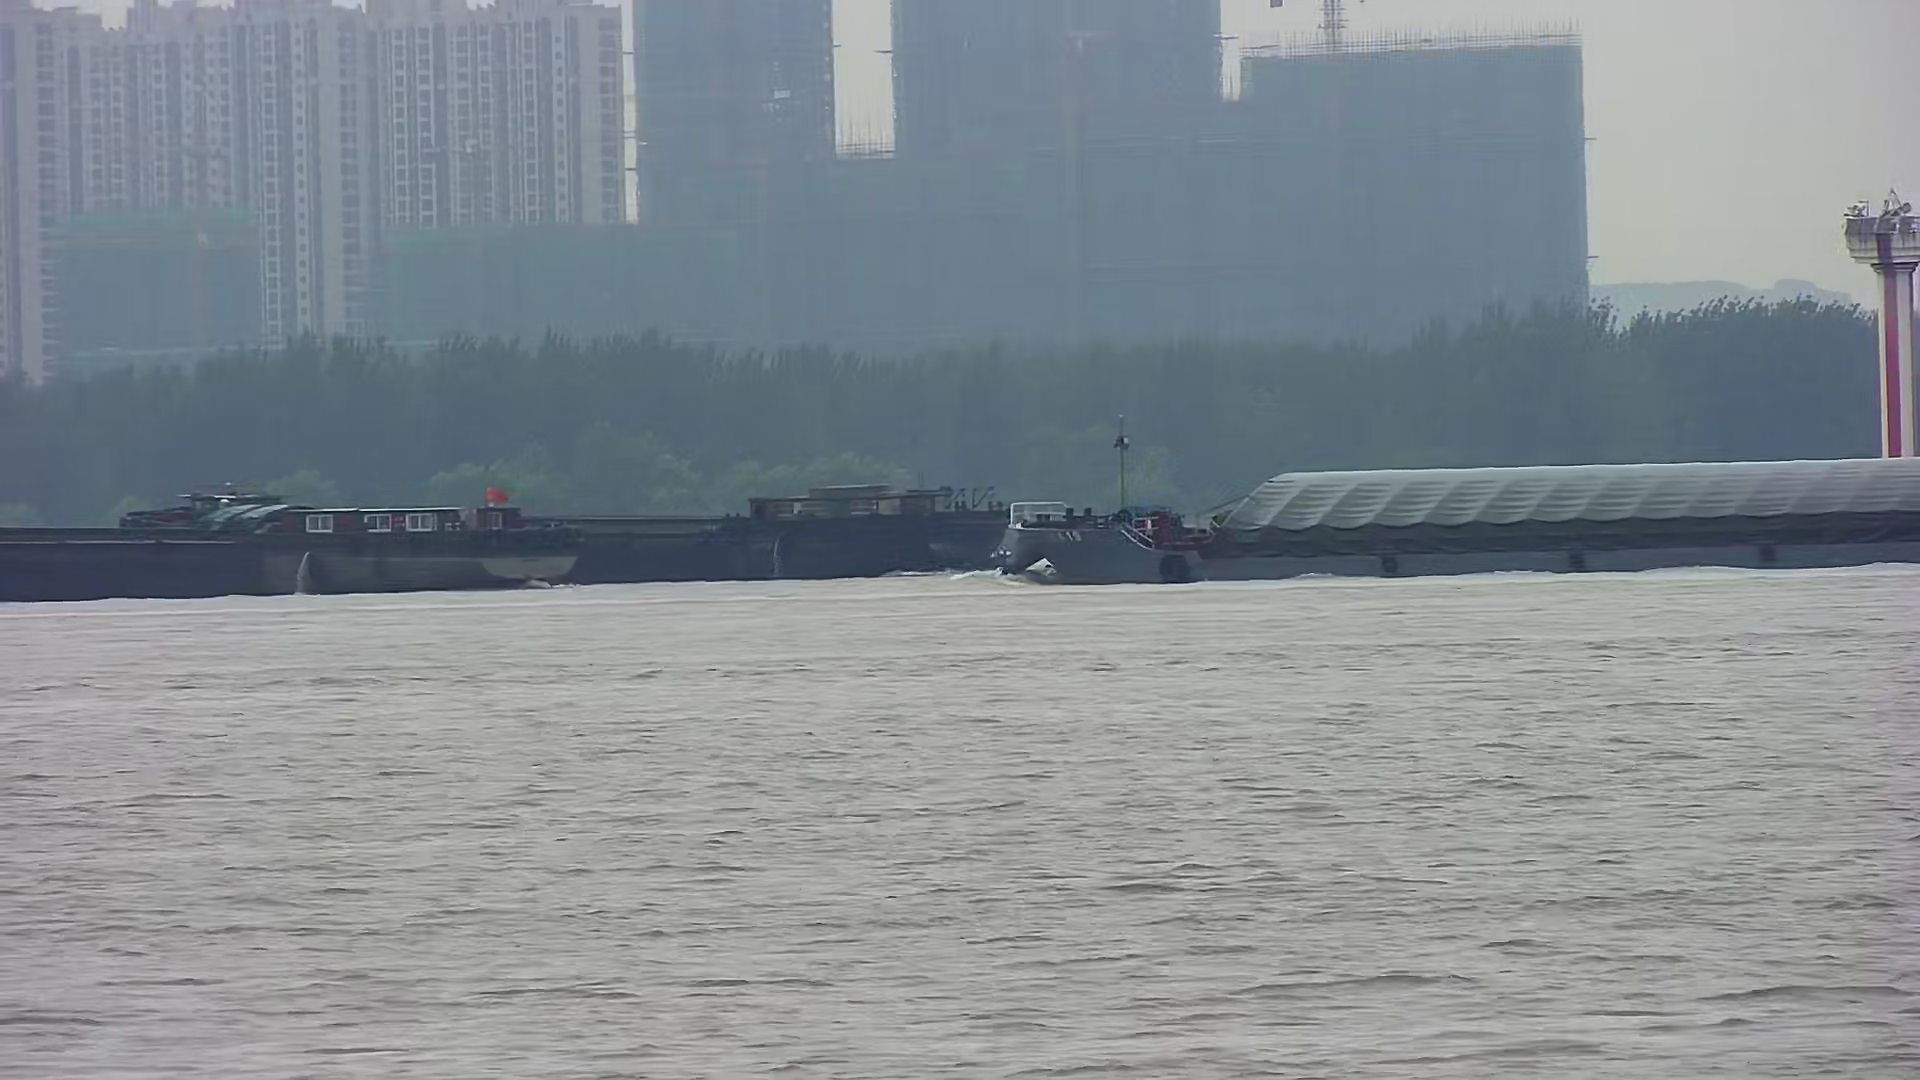ship: (990, 431, 1920, 585), (1, 488, 585, 604), (576, 476, 1004, 585)
